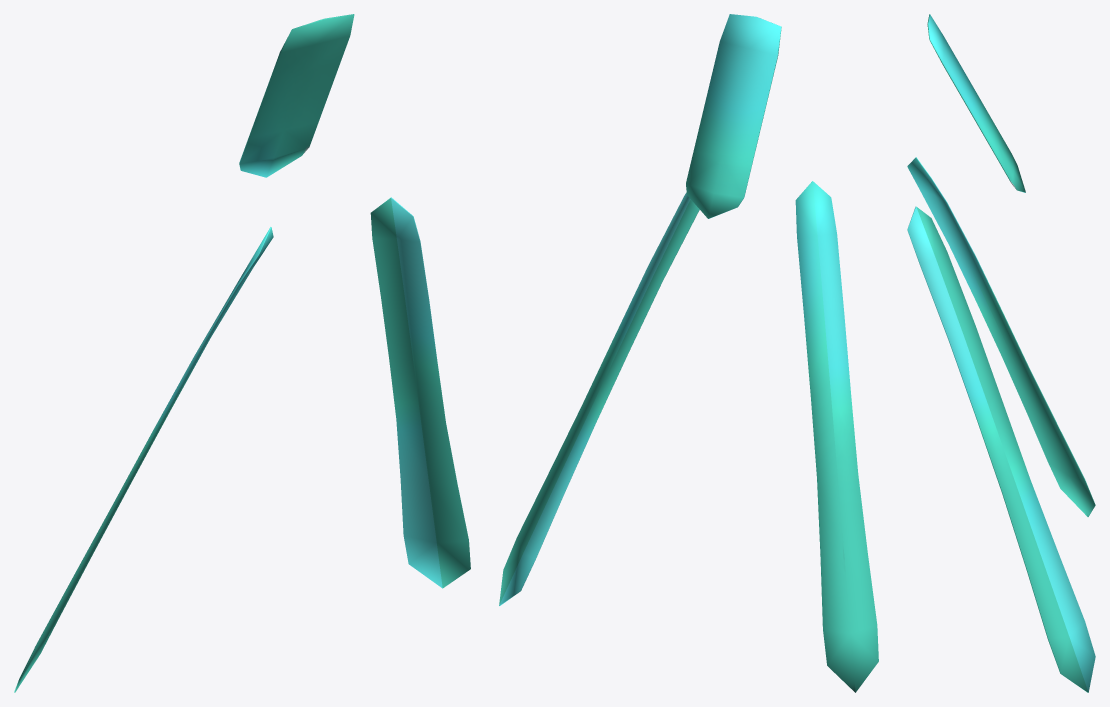
The model's file is 發亮配件單獨.FBX.
3 views of the same model, side by side, from view 1: azimuth 30°, elevation 25°; view 2: azimuth 150°, elevation 25°; view 3: azimuth 270°, elevation 25° (orthographic). The views are drawn at different scales.
Visible parts, largest first — view 1: Object003; view 2: Object003; view 3: Object003.
Boxes of the visible parts, <box> form: Object003: <box>14,14,470,692</box>; Object003: <box>499,14,878,692</box>; Object003: <box>907,14,1095,692</box>.
Bounding box in the file's own units: 97.05 × 142 × 41.69.
